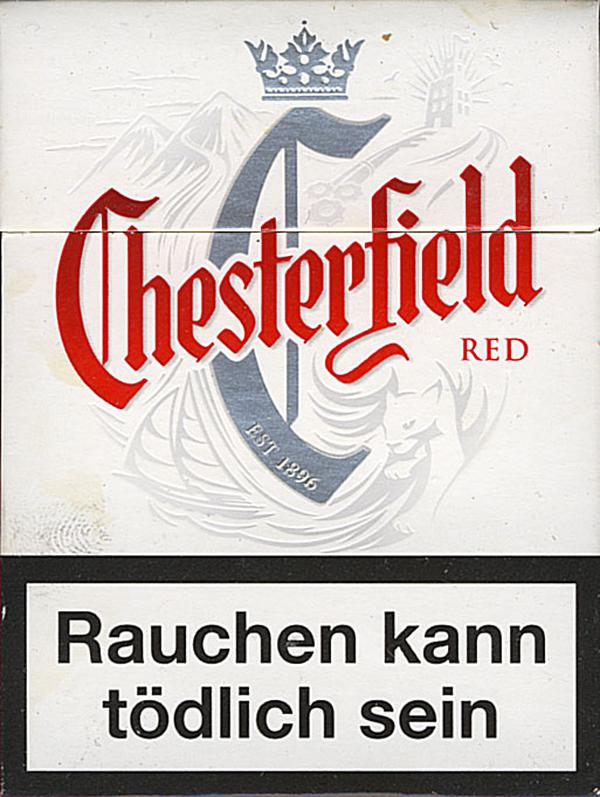chesterfield_red: (5, 1, 600, 795)
